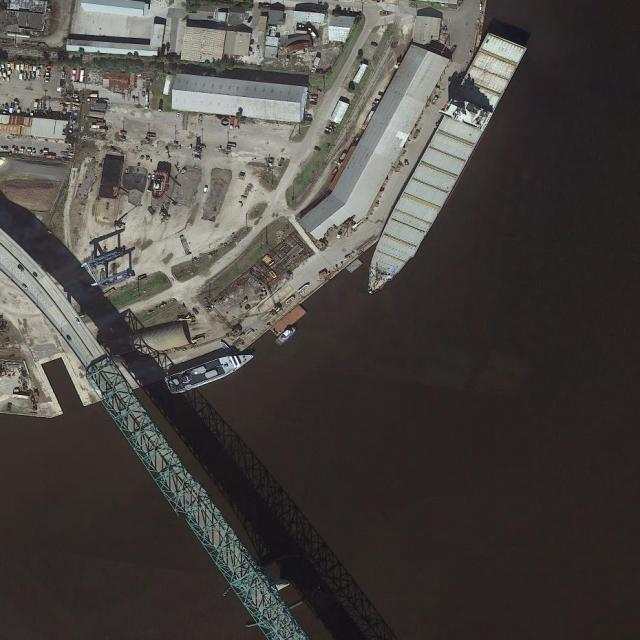Cargo: (350, 25, 529, 306)
Other Ship: (274, 326, 297, 346)
Other Warship: (163, 345, 257, 396)
